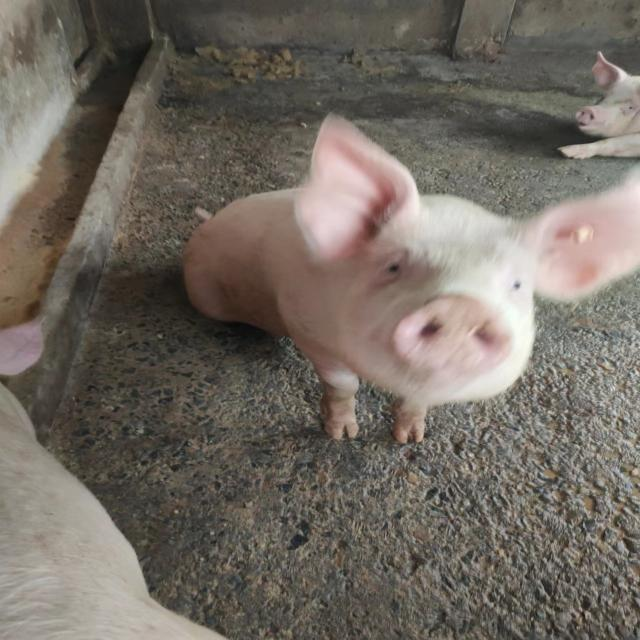pig: (184, 115, 640, 442), (559, 51, 640, 158)
